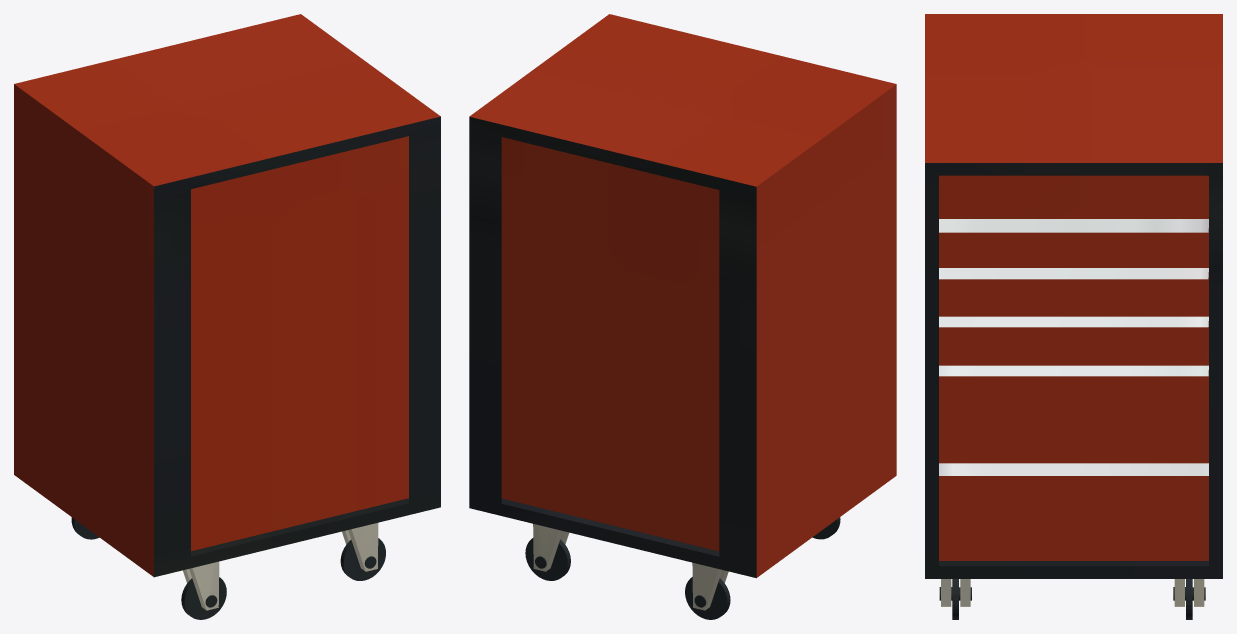
Rendered from InstumentalBox.fbx.
The picture shows the model from 3 angles, left to right: view 1: azimuth 30°, elevation 25°; view 2: azimuth 150°, elevation 25°; view 3: azimuth 270°, elevation 25°; orthographic projection. The views are drawn at different scales.
Parts seen in each view (by area): view 1: Cube, Wheel.004, Wheel.007; view 2: Cube, Wheel.003, Wheel; view 3: Cube, Wheel, Wheel.007.
Part boxes in pixels (x1,y1,x2,y2): Cube: (14, 14, 440, 577); Wheel.004: (181, 561, 226, 619); Wheel.007: (340, 523, 385, 580); Cube: (469, 14, 896, 578); Wheel.003: (685, 562, 730, 619); Wheel: (525, 524, 570, 580); Cube: (925, 14, 1222, 578); Wheel: (1173, 579, 1205, 619); Wheel.007: (939, 579, 971, 619).
Size of the model in its own units: 527 by 804 by 446.
